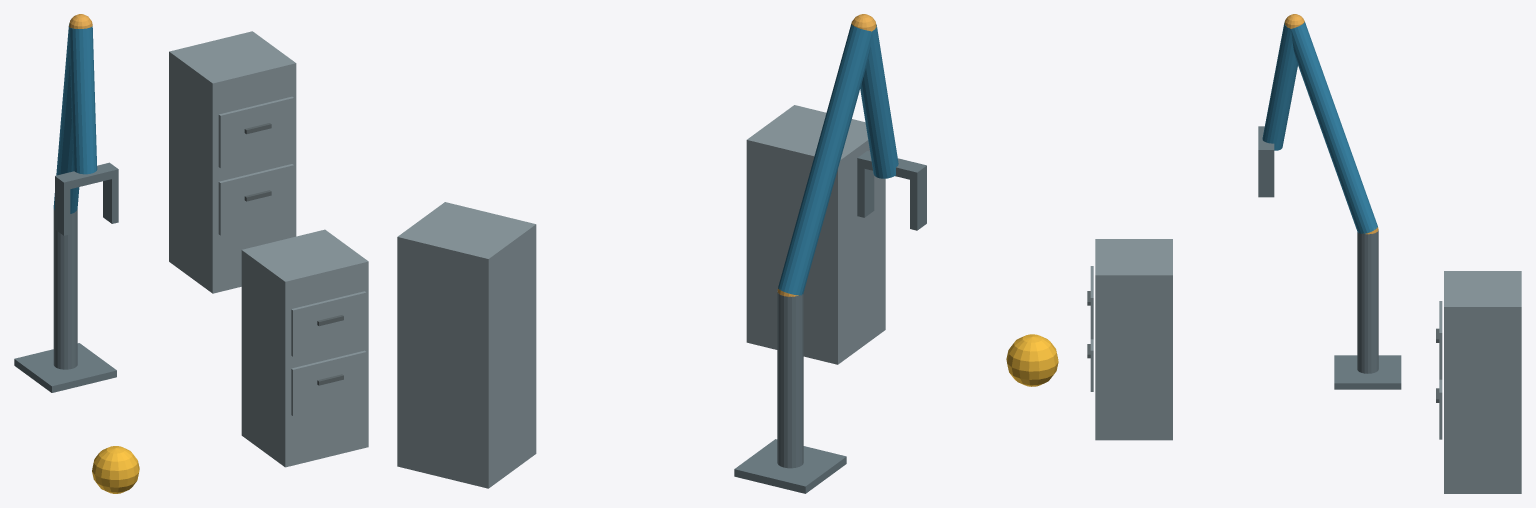
The picture shows the model from 3 angles, left to right: view 1: azimuth 30°, elevation 25°; view 2: azimuth 150°, elevation 25°; view 3: azimuth 270°, elevation 25°; orthographic projection. The views are drawn at different scales.
Visible parts, largest first — view 1: cabinet_2 body, cabinet_1 body, cabinet_2 drawer front.001, cabinet_2 drawer front, fixed post, cabinet_1 drawer front, cabinet_1 drawer front.001, moving link 2, pedestal, ball ball_1, moving link 1, gripper bridge (+2 smaller); view 2: cabinet_2 body, cabinet_1 body, moving link 1, fixed post, moving link 2, pedestal, ball ball_1, gripper finger -1, gripper finger 1, gripper bridge; view 3: cabinet_2 body, cabinet_1 body, moving link 1, fixed post, moving link 2, pedestal, gripper finger 1.
Part boxes in pixels (box(x1,y1,x2,y2)): cabinet_2 body: box(169, 31, 296, 293); cabinet_1 body: box(241, 229, 368, 467); cabinet_2 drawer front.001: box(218, 96, 293, 168); cabinet_2 drawer front: box(218, 164, 293, 235); fixed post: box(53, 209, 77, 369); cabinet_1 drawer front: box(291, 350, 366, 416); cabinet_1 drawer front.001: box(291, 291, 366, 356); moving link 2: box(69, 26, 97, 174); pedestal: box(14, 343, 116, 392); ball ball_1: box(92, 446, 139, 493); moving link 1: box(53, 23, 79, 213); gripper bridge: box(55, 162, 118, 190); cabinet_2 body: box(397, 202, 536, 488); cabinet_1 body: box(746, 105, 885, 364); moving link 1: box(778, 24, 872, 295); fixed post: box(777, 291, 803, 468); moving link 2: box(860, 24, 898, 178); pedestal: box(734, 439, 846, 493); ball ball_1: box(1006, 334, 1058, 386); gripper finger -1: box(910, 174, 926, 230); gripper finger 1: box(857, 167, 874, 217); gripper bridge: box(857, 151, 926, 181); cabinet_2 body: box(1444, 271, 1521, 493); cabinet_1 body: box(1095, 239, 1172, 440); moving link 1: box(1291, 21, 1377, 233); fixed post: box(1357, 230, 1378, 373); moving link 2: box(1262, 22, 1297, 150); pedestal: box(1334, 355, 1401, 389); gripper finger 1: box(1258, 157, 1274, 197).
Bounding box in the file's own units: 1.46 × 1.44 × 1.62.
